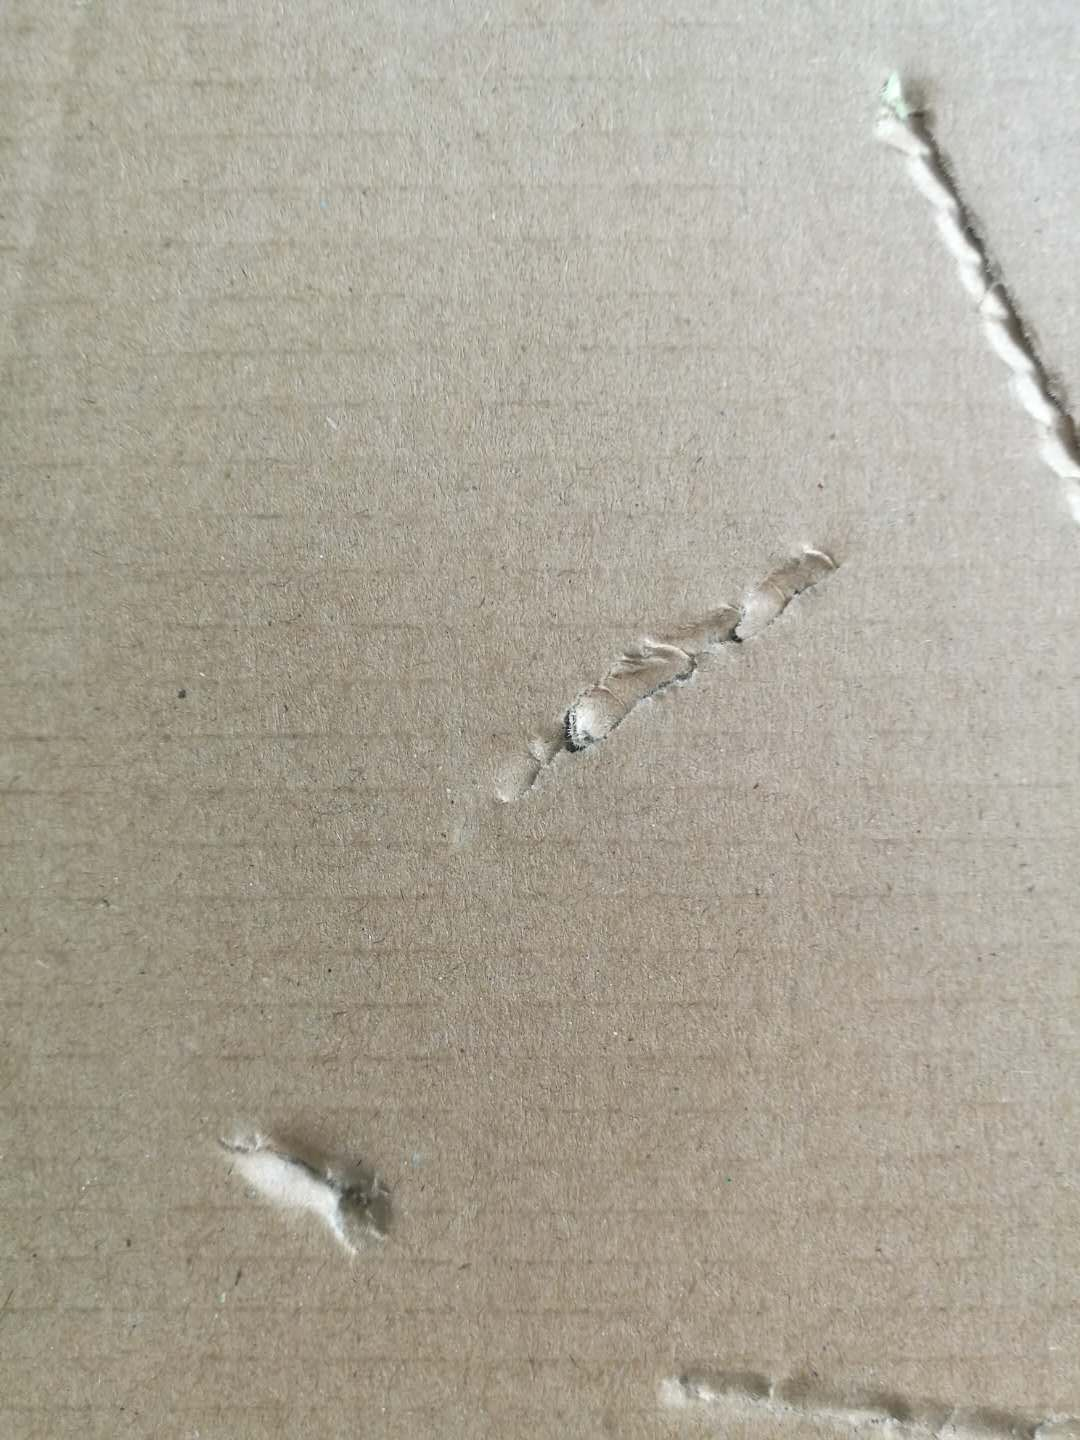defect: (399, 495, 894, 895), (854, 46, 1080, 519), (626, 1324, 1080, 1438), (195, 1081, 428, 1298)
